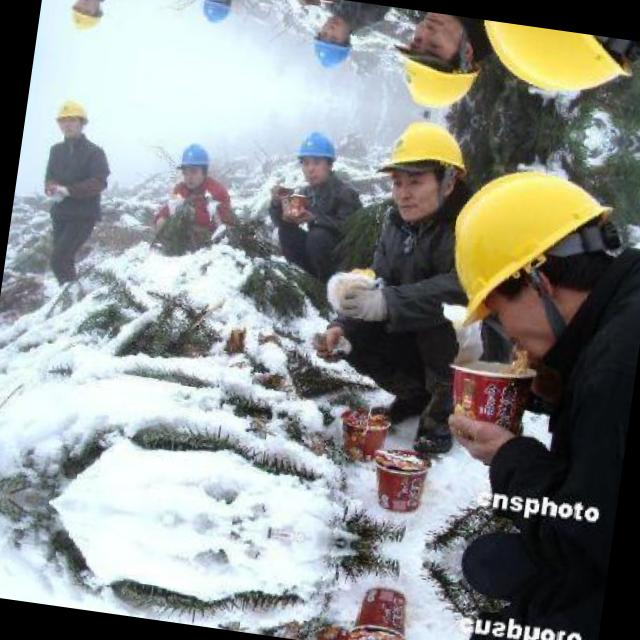helmet: (435, 162, 634, 364), (472, 19, 640, 103), (385, 8, 491, 122), (372, 110, 476, 224), (289, 126, 341, 187), (305, 13, 357, 74), (170, 135, 216, 192), (49, 91, 92, 140), (63, 0, 106, 40), (192, 0, 238, 33)
